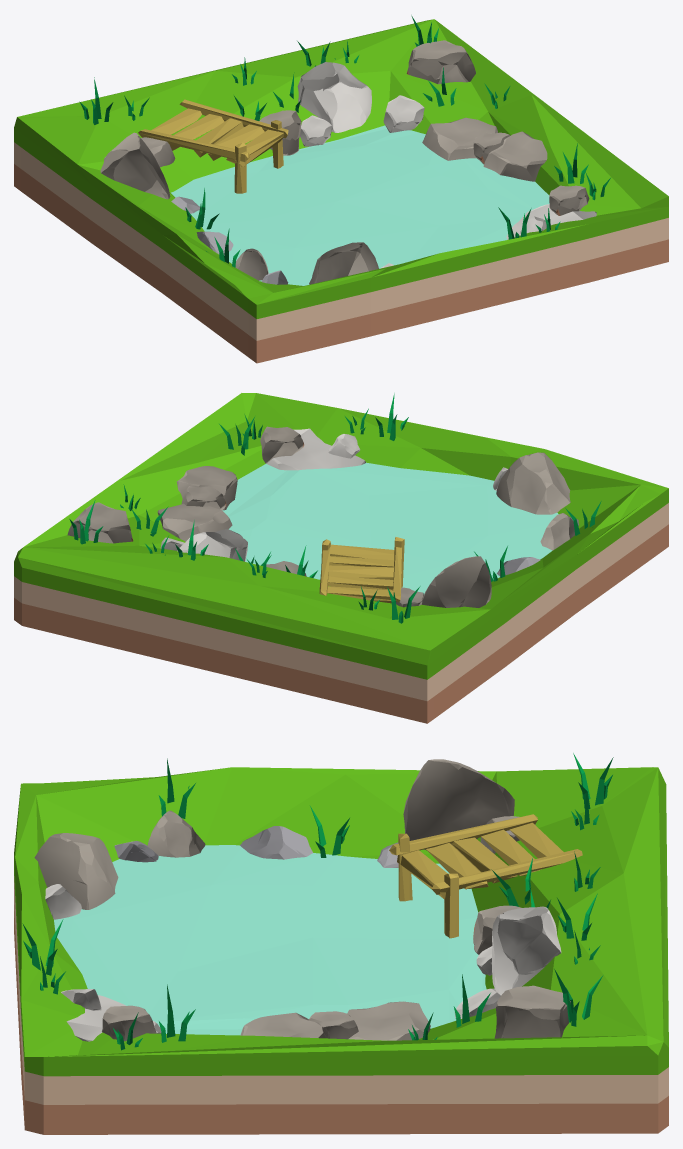
The model's file is 9_Lake.fbx.
3 renders of one model, top to bottom at view 1: azimuth 30°, elevation 25°; view 2: azimuth 150°, elevation 25°; view 3: azimuth 270°, elevation 25°, orthographic. The views are drawn at different scales.
Visible parts, largest first — view 1: 9_Lake_Map; view 2: 9_Lake_Map; view 3: 9_Lake_Map.
Part boxes in pixels (x1,y1,x2,y2): 9_Lake_Map: [14, 15, 668, 363]; 9_Lake_Map: [14, 393, 668, 723]; 9_Lake_Map: [14, 753, 668, 1134].
Bounding box in the file's own units: 0.9008 × 0.3657 × 0.9115.
